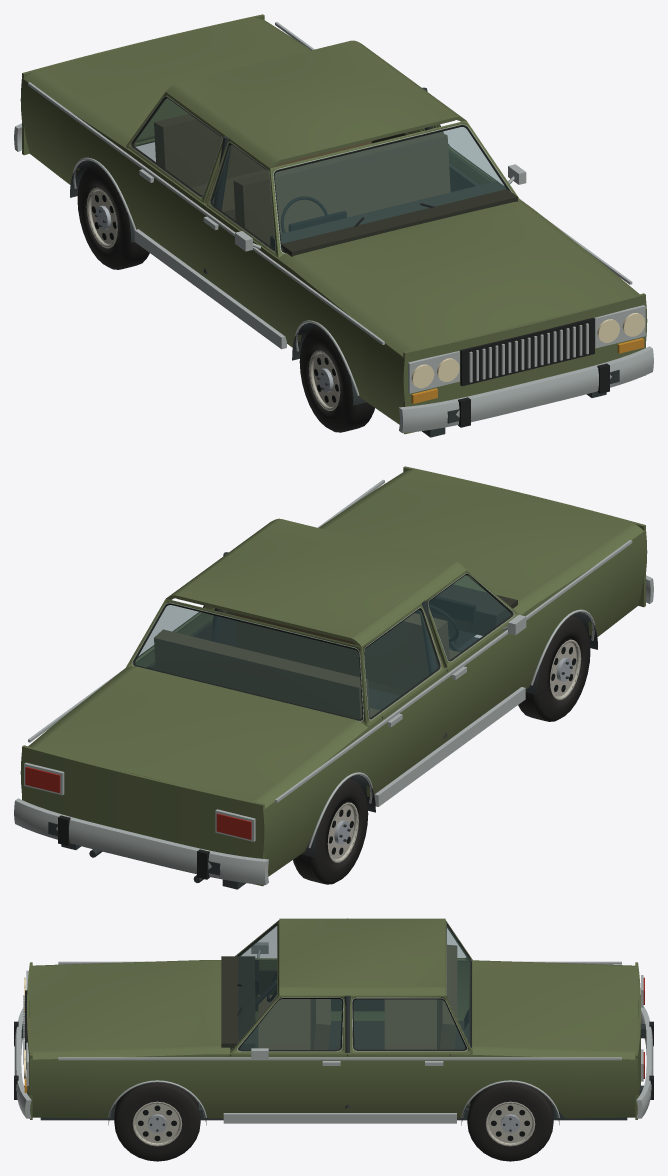
File: regent.glb
3 renders of one model, top to bottom at view 1: azimuth 30°, elevation 25°; view 2: azimuth 150°, elevation 25°; view 3: azimuth 270°, elevation 25°, orthographic. The views are drawn at different scales.
Parts seen in each view (by area): view 1: panel_hoodRegent, panel_RoofRegent, glass_FrontRegent, panel_BootRegent, Interior Regent bench back 0.39, panel_FrontWingLRegent, panel_RearWingLRegent, panel_bumper_frontRegent, panel_RegentfrontValance, Interior Regent dash, panel_BodyDoorLRegent, glass_BodyDoorRearLRegent (+21 smaller); view 2: panel_BootRegent, panel_hoodRegent, panel_RoofRegent, glass_RearRegent, panel_RegentrearValance, Interior Regent bench back -0.72, Interior Regent bench back 0.39, panel_FrontWingLRegent, panel_RearWingLRegent, panel_bumper_rearRegent, panel_BodyDoorLRegent, glass_BodyDoorRearLRegent (+21 smaller); view 3: panel_hoodRegent, panel_BootRegent, panel_RoofRegent, panel_FrontWingRRegent, panel_RearWingRRegent, panel_BodyDoorRRegent, panel_BodyDoorRearRRegent, glass_BodyDoorRearRRegent, glass_BodyDoorRRegent, Tire_Rook_FR, Tire_Rook_RR, glass_FrontRegent (+33 smaller).
Boxes of the visible parts, x1,y1,x2,y2 form: panel_hoodRegent: (296, 202, 633, 350); panel_RoofRegent: (177, 41, 455, 162); glass_FrontRegent: (274, 127, 506, 250); panel_BootRegent: (34, 17, 303, 140); Interior Regent bench back 0.39: (233, 132, 450, 245); panel_FrontWingLRegent: (275, 259, 404, 424); panel_RearWingLRegent: (20, 78, 142, 231); panel_bumper_frontRegent: (399, 346, 653, 432); panel_RegentfrontValance: (403, 293, 645, 434); Interior Regent dash: (270, 181, 517, 256); panel_BodyDoorLRegent: (202, 204, 280, 332); glass_BodyDoorRearLRegent: (133, 98, 221, 195); panel_BootRegent: (34, 667, 354, 802); panel_hoodRegent: (326, 469, 633, 599); panel_RoofRegent: (176, 519, 454, 640); glass_RearRegent: (135, 605, 362, 719); panel_RegentrearValance: (22, 745, 264, 886); Interior Regent bench back -0.72: (154, 629, 370, 719); Interior Regent bench back 0.39: (235, 613, 449, 690); panel_FrontWingLRegent: (517, 530, 647, 689); panel_RearWingLRegent: (263, 716, 384, 876); panel_bumper_rearRegent: (14, 798, 268, 884); panel_BodyDoorLRegent: (443, 623, 522, 743); glass_BodyDoorRearLRegent: (364, 610, 438, 717); panel_hoodRegent: (30, 961, 221, 1050); panel_BootRegent: (473, 961, 637, 1050); panel_RoofRegent: (279, 919, 445, 986); panel_FrontWingRRegent: (30, 1054, 230, 1118); panel_RearWingRRegent: (450, 1053, 637, 1118); panel_BodyDoorRRegent: (230, 1053, 347, 1112); panel_BodyDoorRearRRegent: (347, 1053, 449, 1112); glass_BodyDoorRearRRegent: (353, 999, 465, 1049); glass_BodyDoorRRegent: (240, 999, 342, 1049); Tire_Rook_FR: (114, 1082, 200, 1161); Tire_Rook_RR: (467, 1082, 553, 1161); glass_FrontRegent: (238, 925, 277, 1041).
Size of the model in its own units: 2.26 by 1.63 by 5.62.
